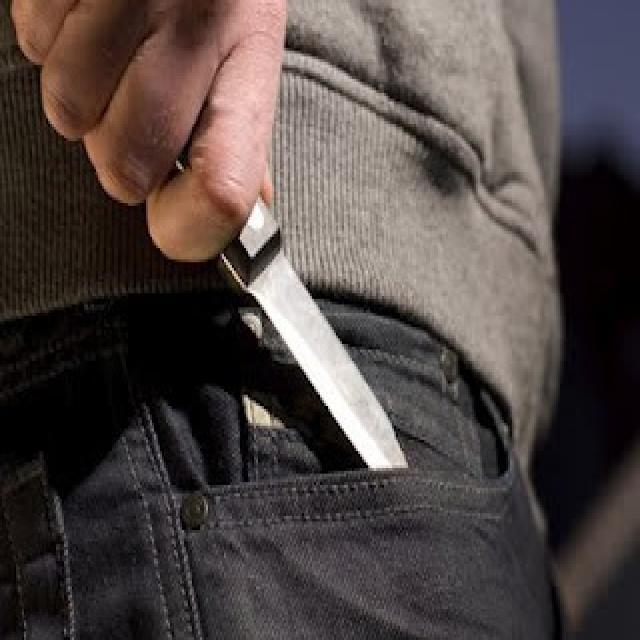knife: (231, 202, 416, 474)
